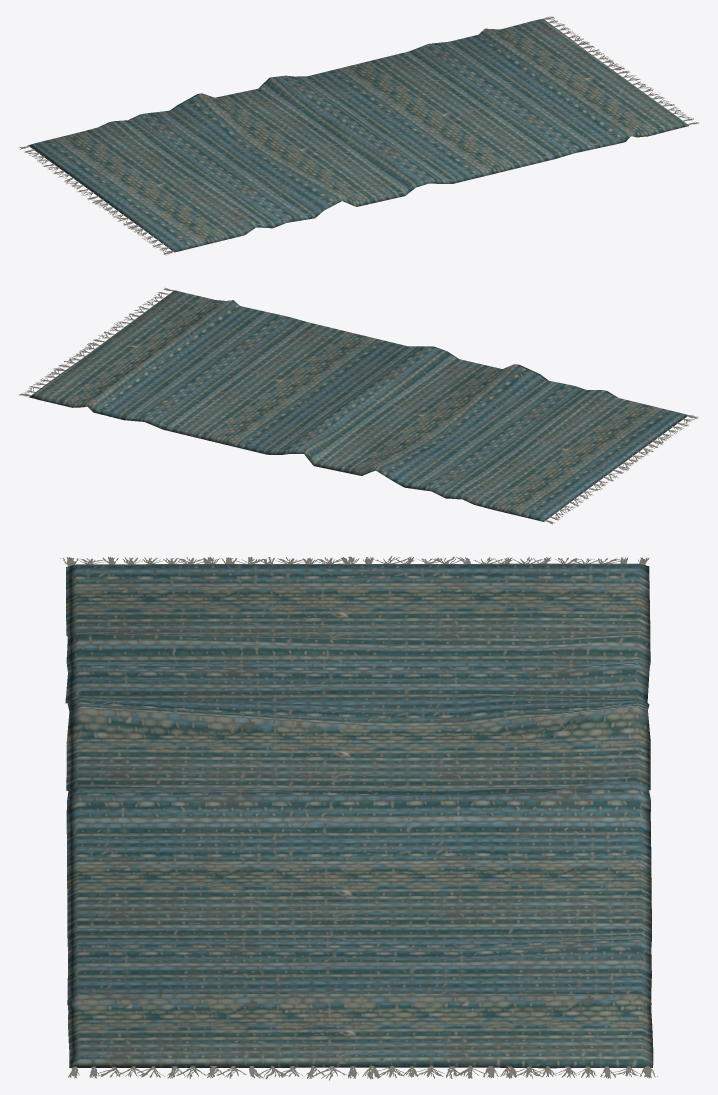
File: carpet.glb
3 views of the same model, one above another, from view 1: azimuth 30°, elevation 25°; view 2: azimuth 150°, elevation 25°; view 3: azimuth 270°, elevation 25° (orthographic). The views are drawn at different scales.
Parts seen in each view (by area): view 1: Carpet_A_6; view 2: Carpet_A_6; view 3: Carpet_A_6.
Part boxes in pixels (box(x1,y1,x2,y2)): Carpet_A_6: box(19, 16, 698, 255); Carpet_A_6: box(19, 288, 698, 524); Carpet_A_6: box(60, 556, 657, 1080).
Bounding box in the file's own units: 2.2 × 0.0581 × 1.07.
Materials: 2 (2 with a texture image).
